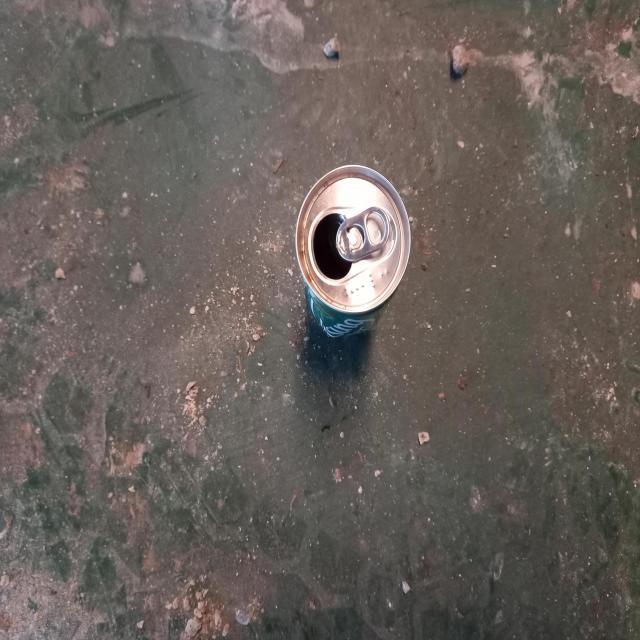can: (296, 165, 411, 338)
